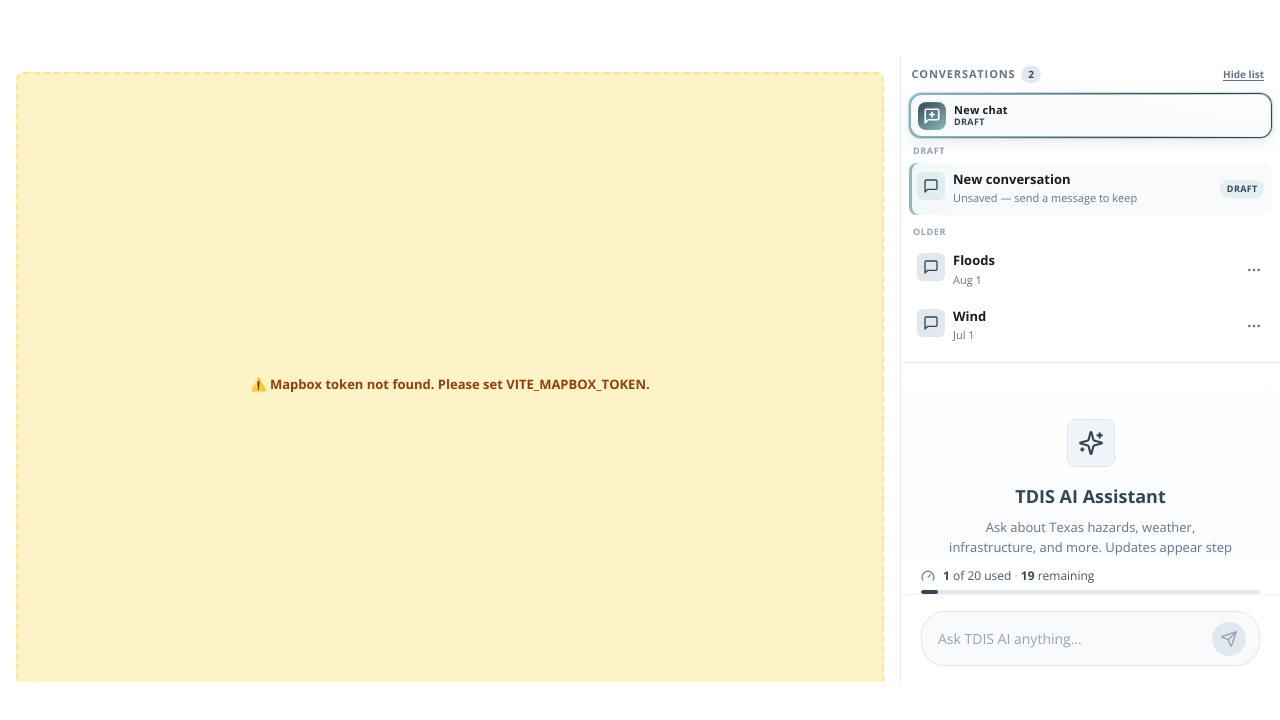
Scenario: AIAssistantTab › records an error turn when the stream fails
Type "Fail please" into the text box with placeholder "Ask TDIS AI anything..." at [1068, 639], box [934, 620, 1203, 657]
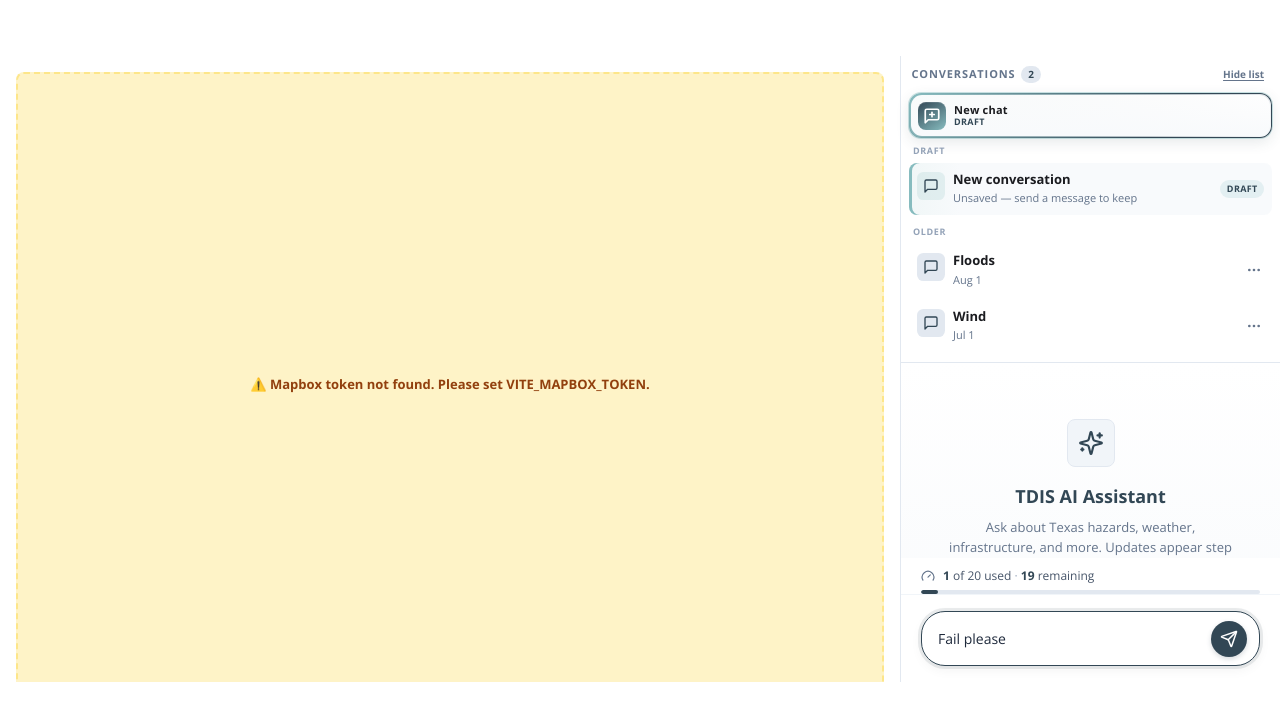
Click the button named "Send message" at [1229, 639], box [1211, 621, 1247, 657]
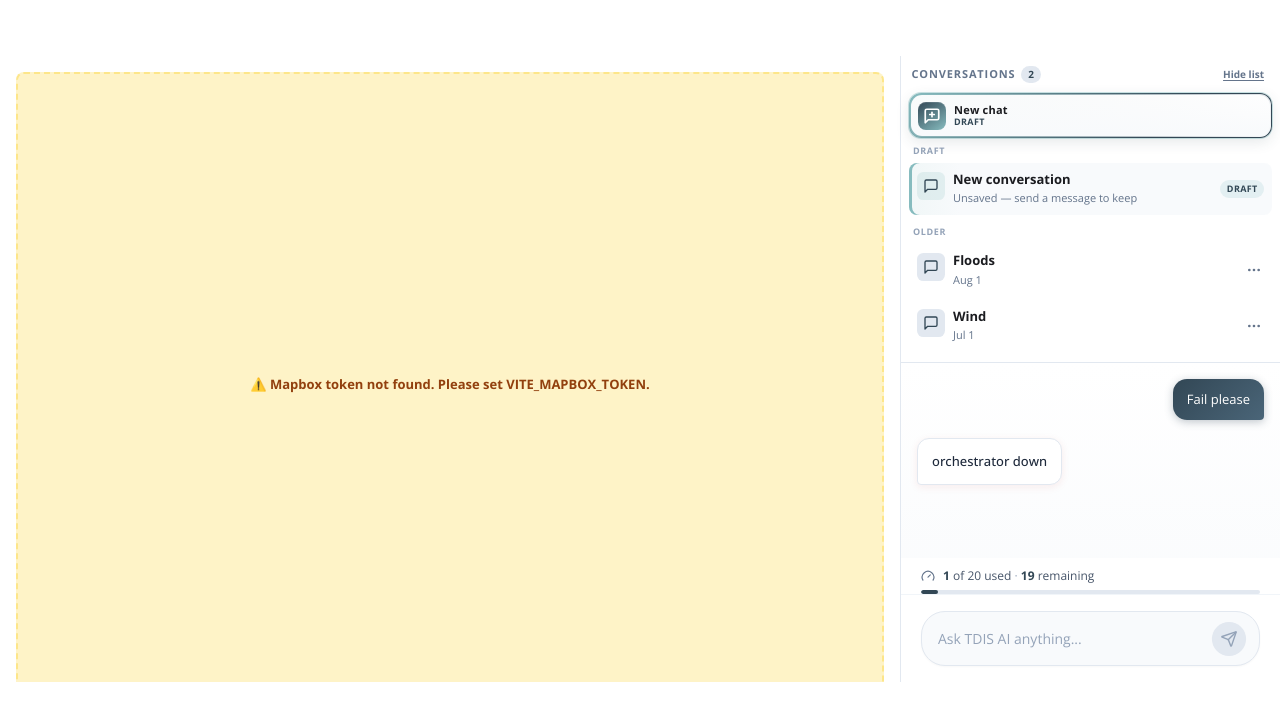
Now the text "orchestrator down" is shown, box [932, 451, 1047, 472]
